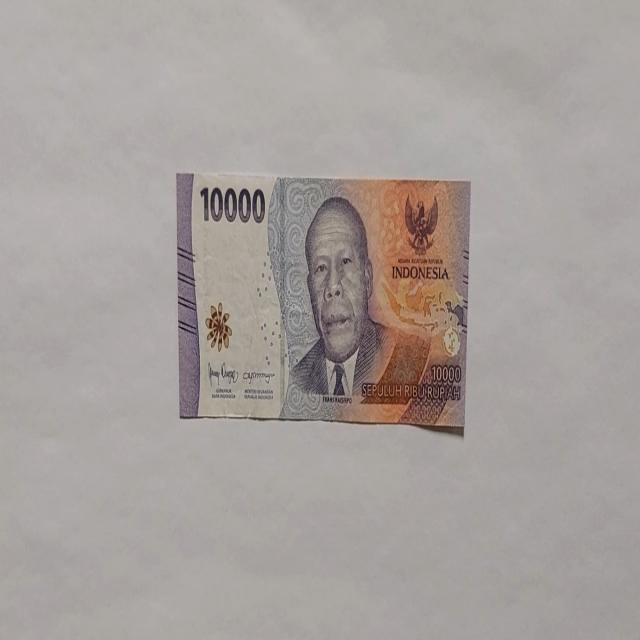sepuluh ribu rupiah: (175, 170, 470, 430), (276, 192, 432, 420)
